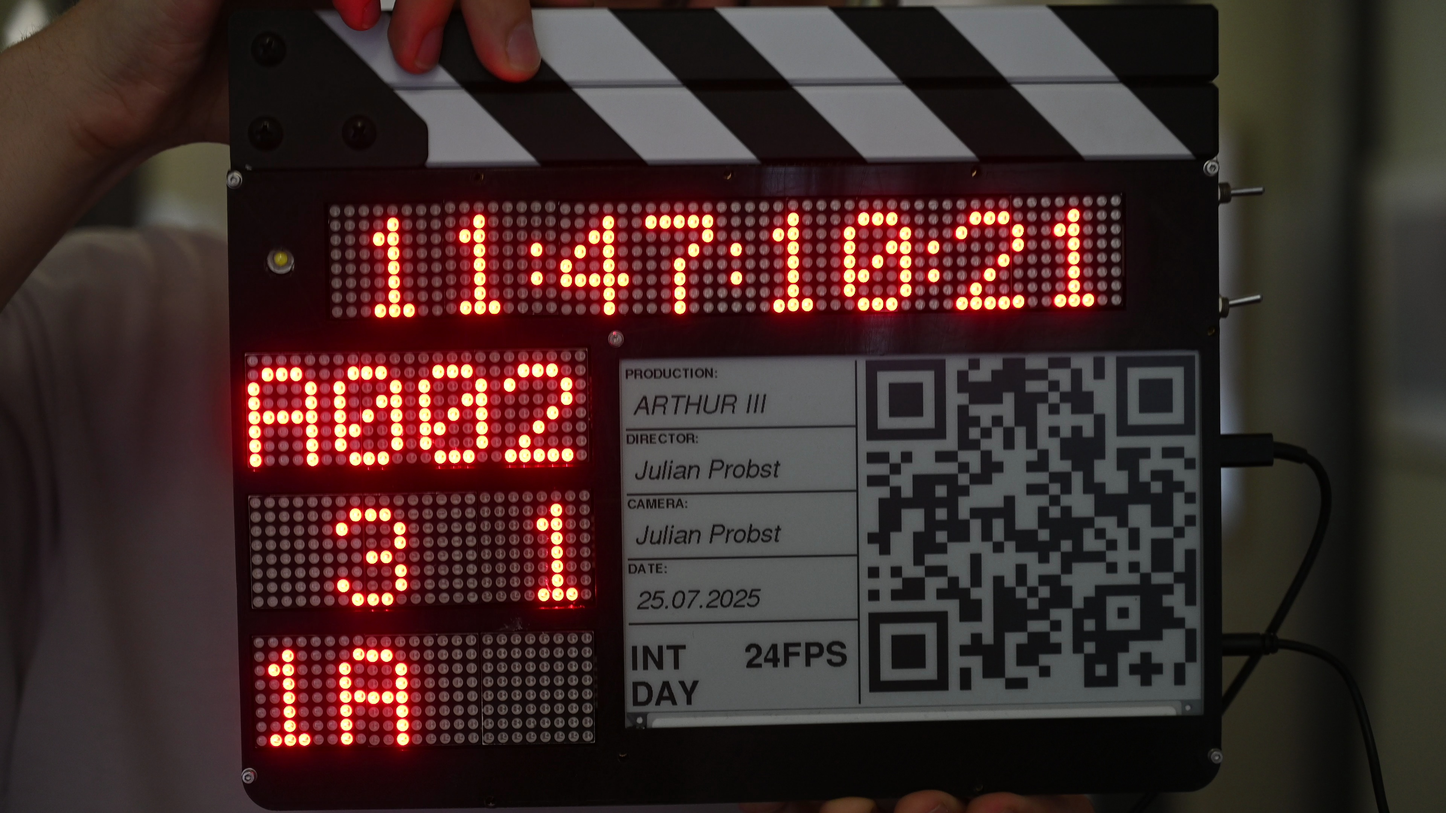ARC-SLATE: (237, 89, 1215, 785), (185, 786, 241, 800), (273, 72, 275, 80)
